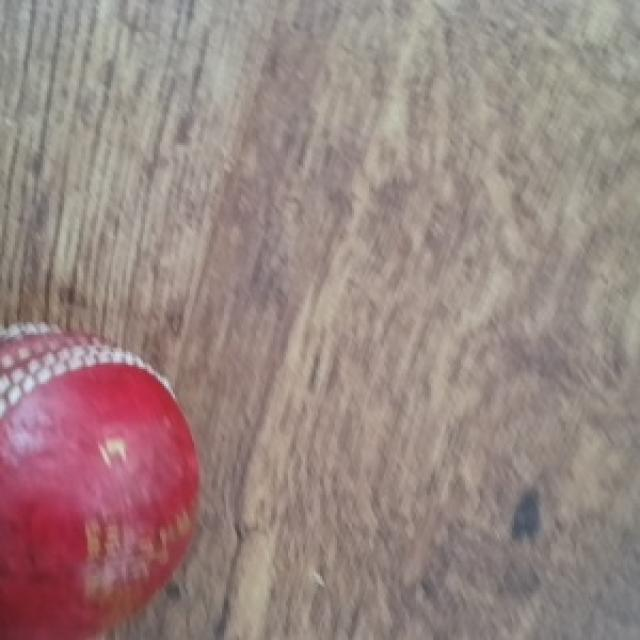ball: (0, 326, 203, 640)
